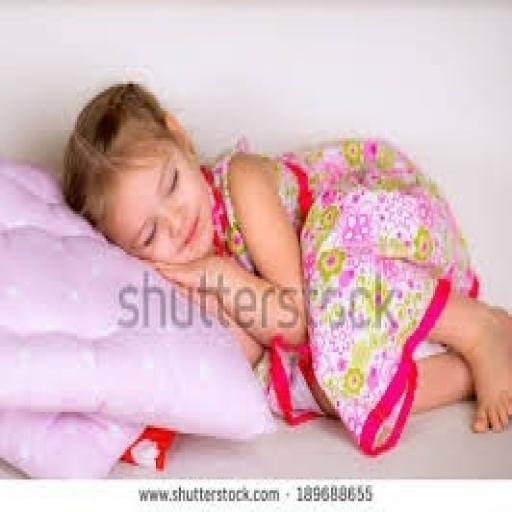sleeping: (58, 76, 510, 458)
